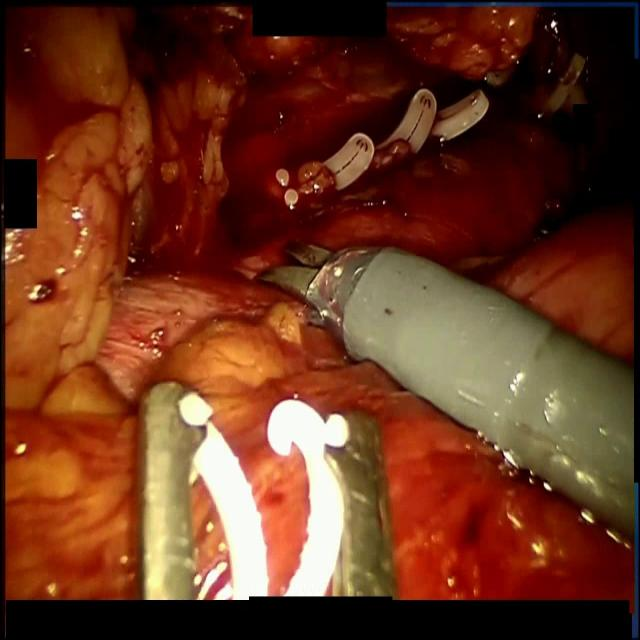surgical-area: (4, 6, 634, 600)
surgical-tool: (256, 238, 634, 541), (137, 380, 210, 600), (326, 412, 398, 596)
